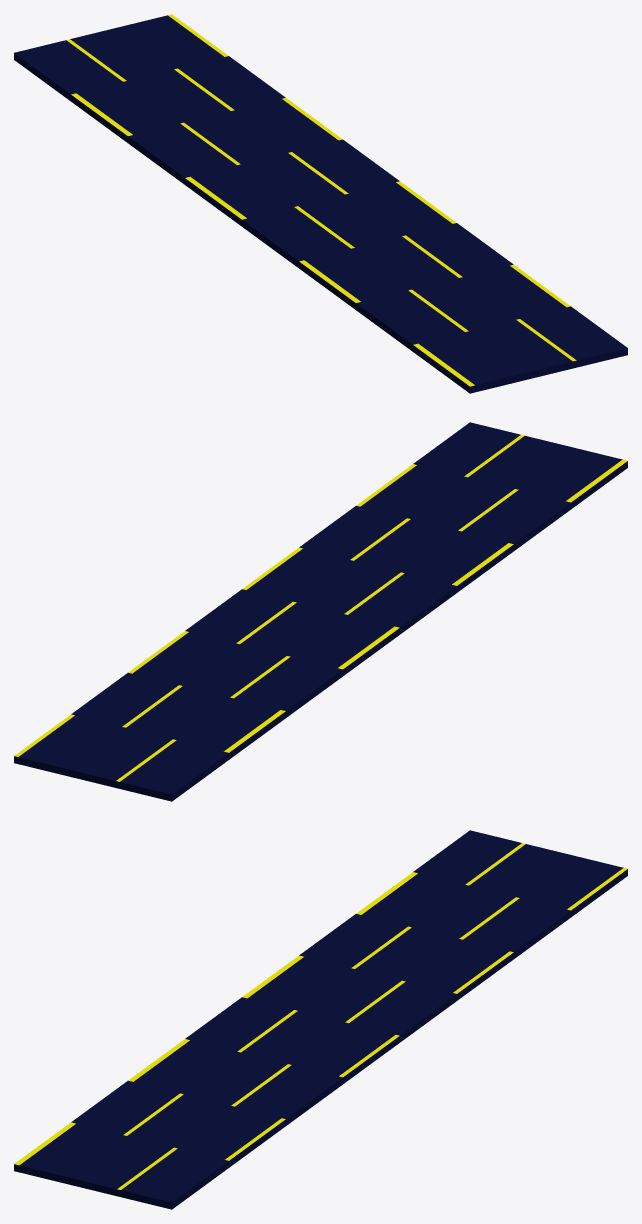
File: Road.fbx
3 renders of one model, top to bottom at view 1: azimuth 30°, elevation 25°; view 2: azimuth 150°, elevation 25°; view 3: azimuth 330°, elevation 25°, orthographic.
Parts seen in each view (by area): view 1: Cube; view 2: Cube; view 3: Cube.
Part boxes in pixels (box(x1,y1,x2,y2)): Cube: box(14, 14, 627, 393); Cube: box(14, 422, 627, 801); Cube: box(14, 830, 627, 1209).
Bounding box in the file's own units: 800 × 34.2 × 4000.
